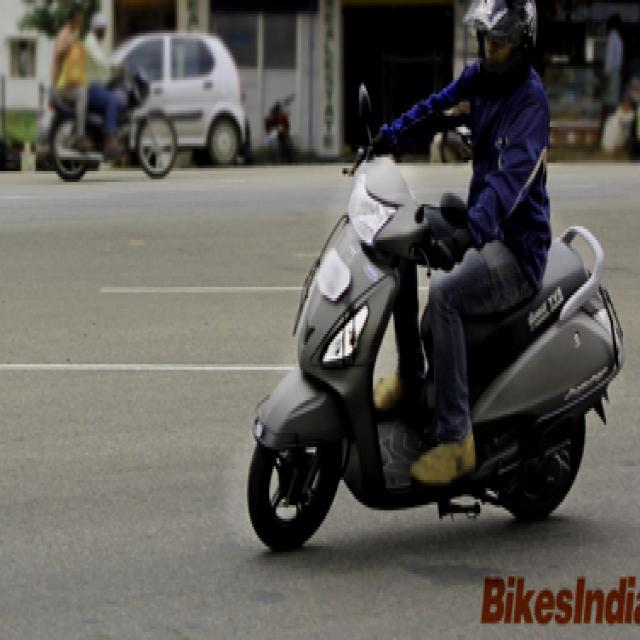Helmet: (462, 0, 541, 99)
